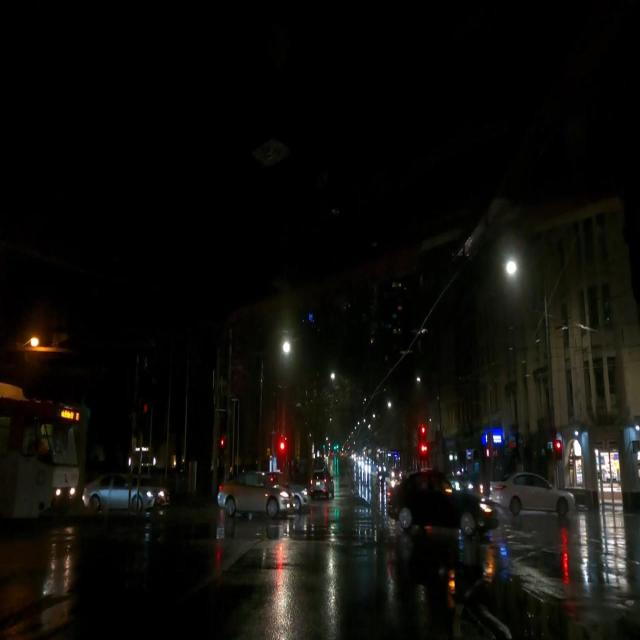Car: (390, 470, 493, 533), (495, 470, 574, 522), (217, 466, 290, 521), (80, 469, 168, 514), (307, 468, 334, 498)
